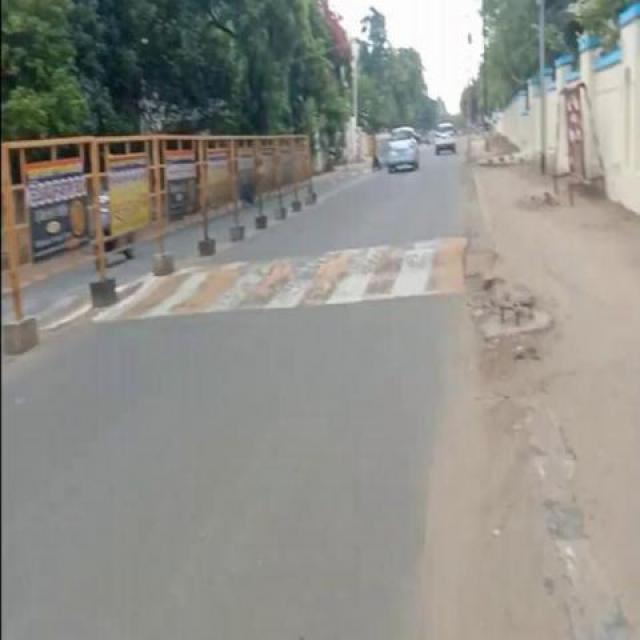Speed Bump: (215, 240, 466, 312), (37, 280, 90, 330), (116, 272, 170, 319), (172, 262, 215, 314)
